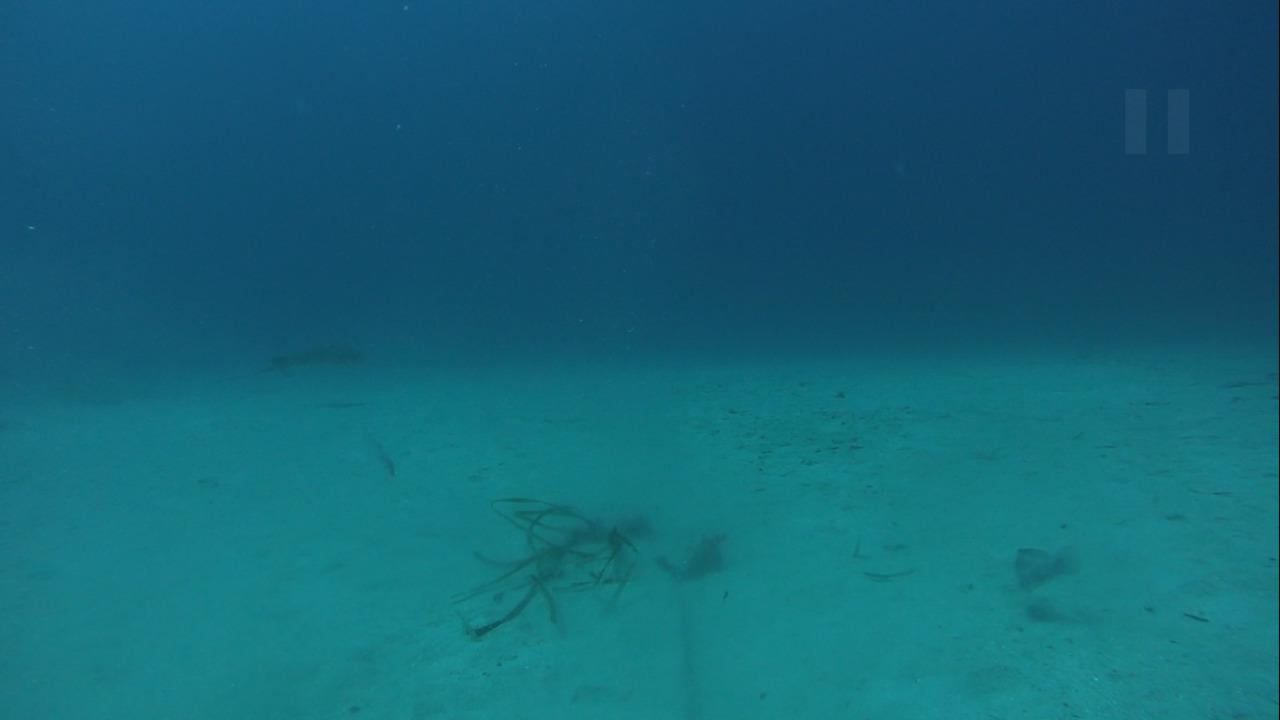myliobatis: (177, 323, 374, 390)
raor: (1011, 533, 1074, 597)
